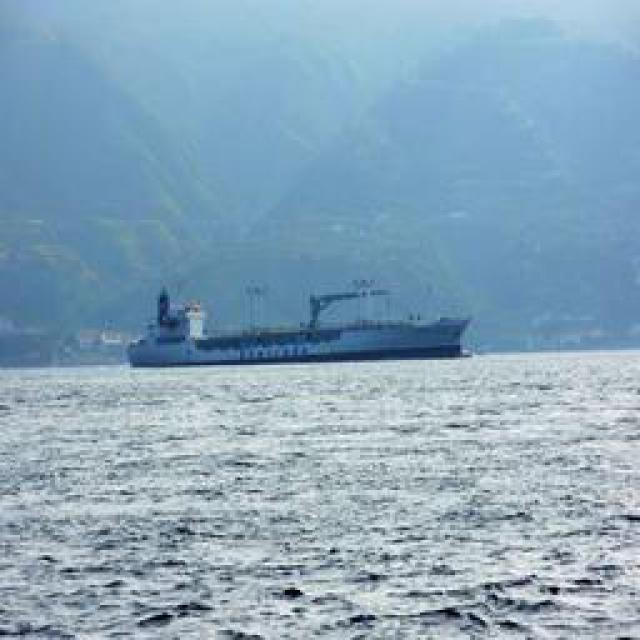Ship: (124, 291, 474, 366)
